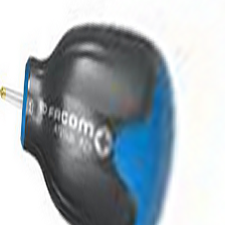Screwdriver: (1, 21, 173, 225)
